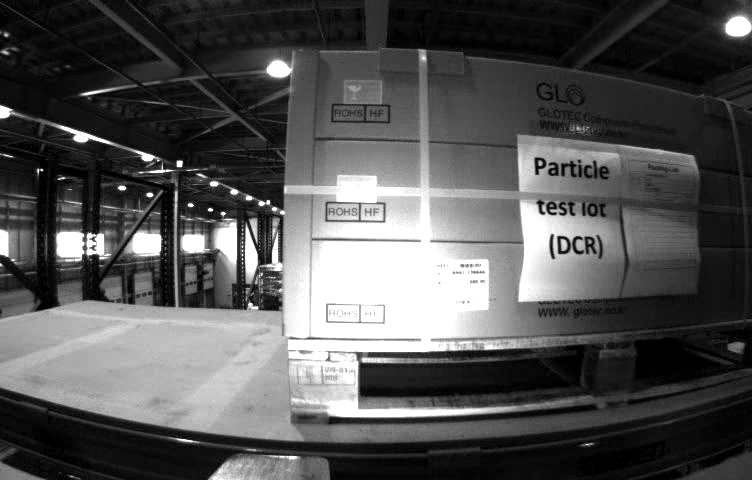True Barcode: (427, 259, 487, 310)
